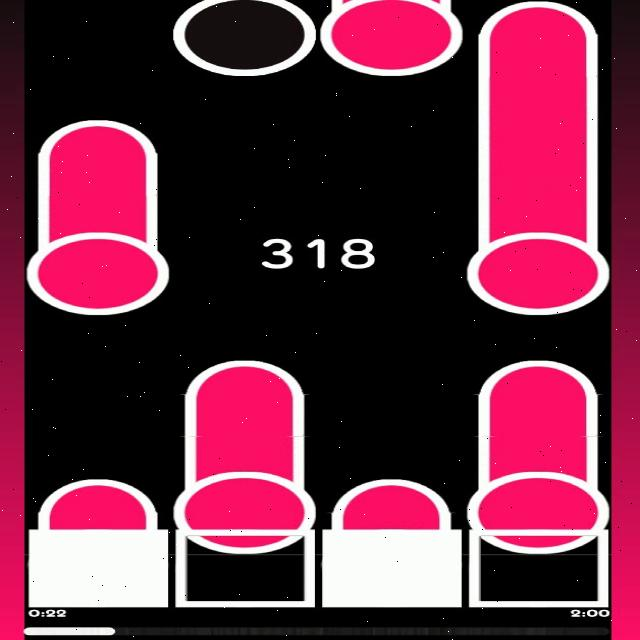end_hold: (32, 106, 166, 162), (328, 466, 456, 520), (34, 470, 160, 520), (181, 354, 310, 400), (476, 351, 601, 397), (475, 0, 607, 39)
note: (172, 0, 316, 76)
start_hold: (26, 214, 170, 314), (466, 456, 611, 554), (172, 460, 316, 552), (468, 223, 608, 315), (320, 0, 464, 77)
